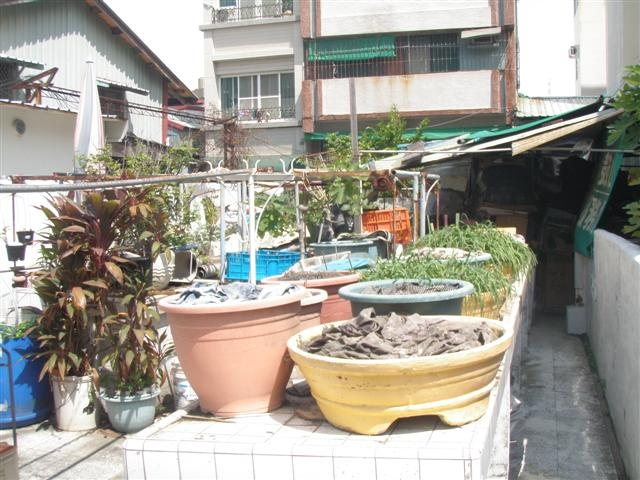bowl: (287, 313, 514, 434), (158, 282, 304, 415)
plastic_bag: (304, 122, 502, 139)
